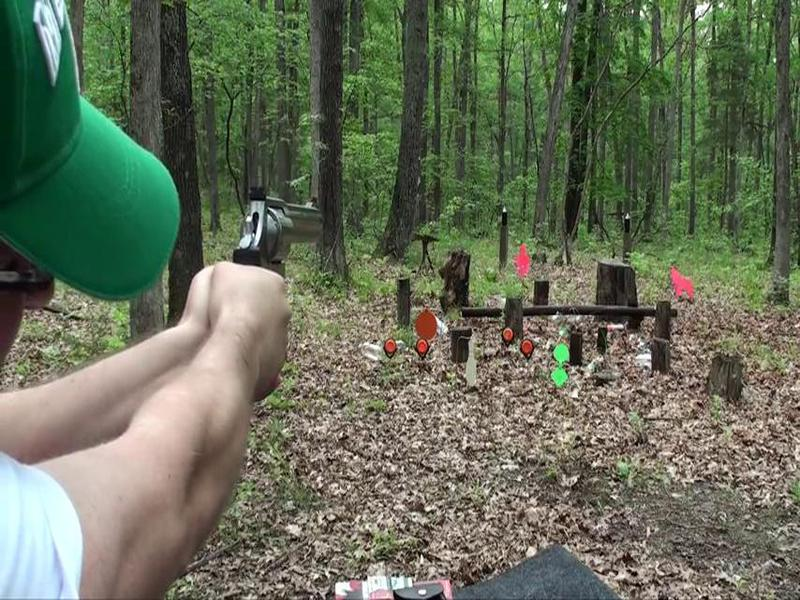Revolver: (221, 177, 331, 295)
